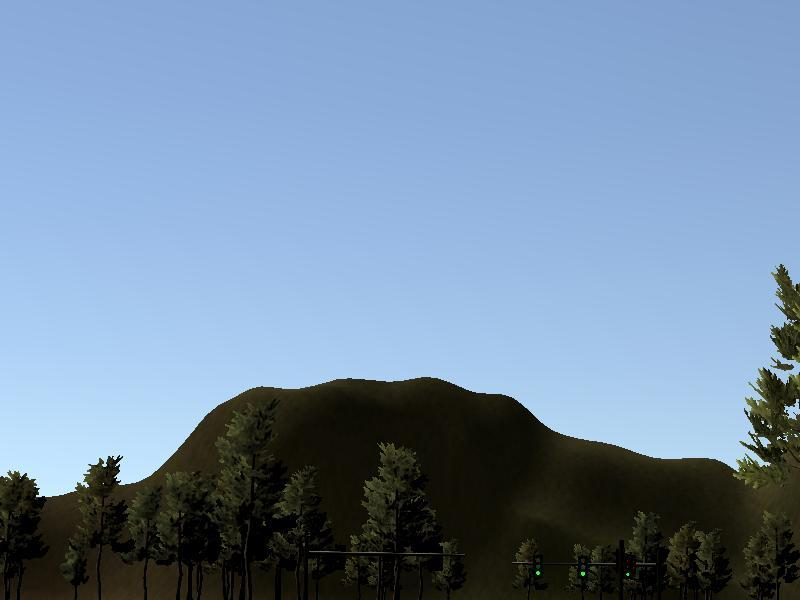Green: (576, 553, 589, 581), (622, 551, 634, 581), (532, 554, 544, 578)
